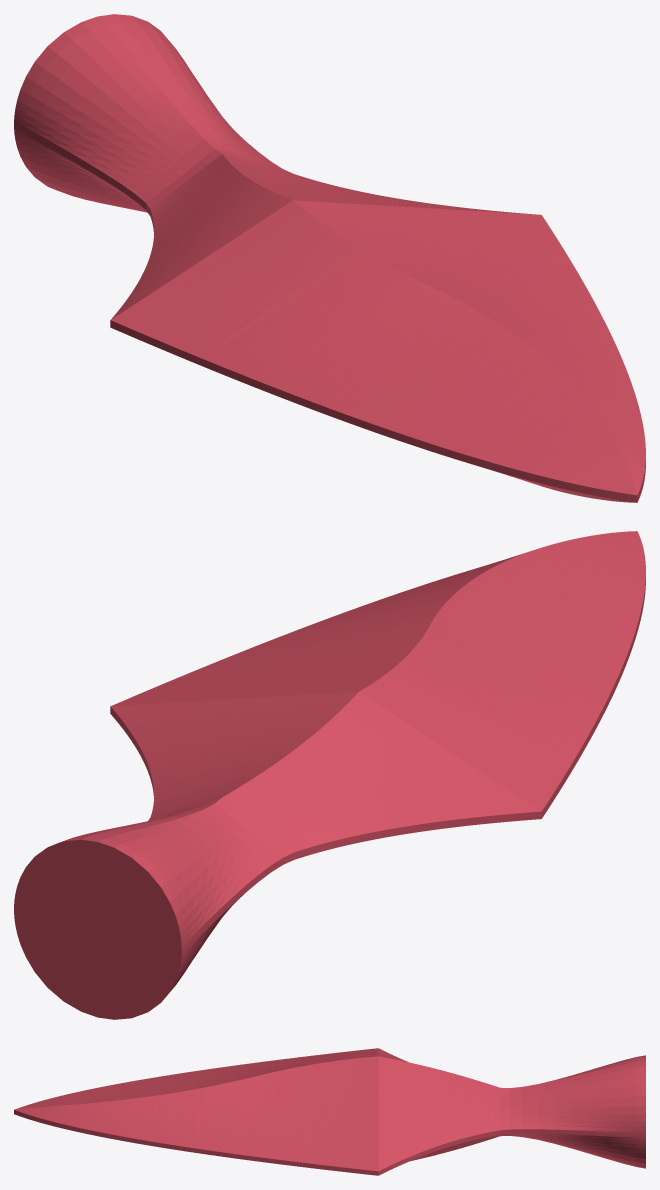
File: ArrowRed.glb
The picture shows the model from 3 angles, top to bottom: view 1: azimuth 30°, elevation 25°; view 2: azimuth 150°, elevation 25°; view 3: azimuth 270°, elevation 25°; orthographic projection. The views are drawn at different scales.
Visible parts, largest first — view 1: Mesh_Mesh_head_geo.001_lambert2SG.001; view 2: Mesh_Mesh_head_geo.001_lambert2SG.001; view 3: Mesh_Mesh_head_geo.001_lambert2SG.001.
Boxes of the visible parts, left/top/right/bottom form: Mesh_Mesh_head_geo.001_lambert2SG.001: left=14, top=14, right=645, bottom=502; Mesh_Mesh_head_geo.001_lambert2SG.001: left=14, top=531, right=645, bottom=1019; Mesh_Mesh_head_geo.001_lambert2SG.001: left=14, top=1048, right=645, bottom=1175.
Bounding box in the file's own units: 0.018 × 0.007 × 0.039.
